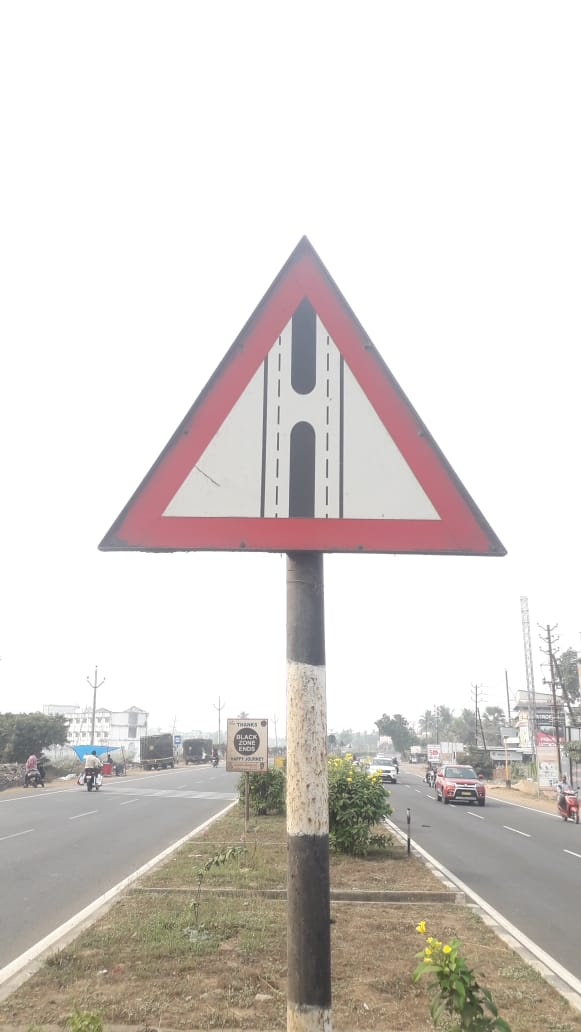highway go straight: (77, 144, 561, 611)
